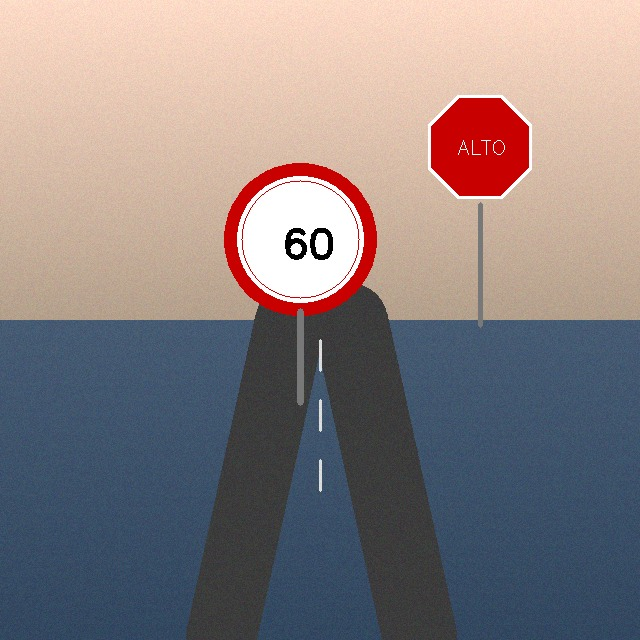alto: (423, 90, 537, 204)
velocidad: (228, 167, 372, 311)
